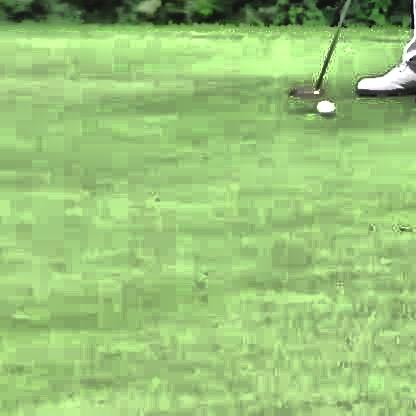golfball: (315, 98, 333, 115)
